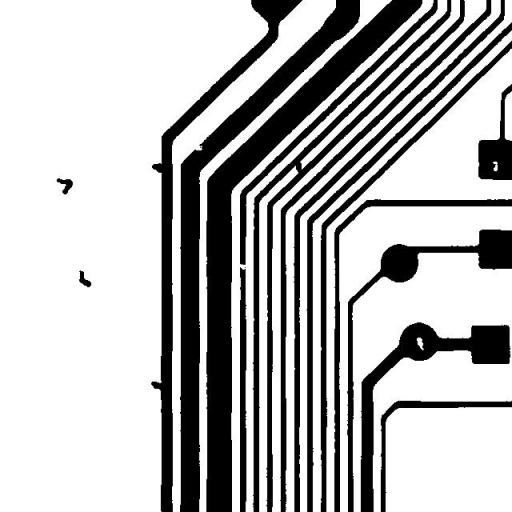copper: (49, 170, 80, 202), (72, 262, 98, 294)
mousebite: (184, 138, 210, 158)
open: (230, 256, 255, 277)
pin-hole: (409, 330, 431, 358), (485, 154, 505, 178)
short: (288, 154, 309, 180)
spur: (143, 374, 174, 398), (144, 155, 172, 180)
